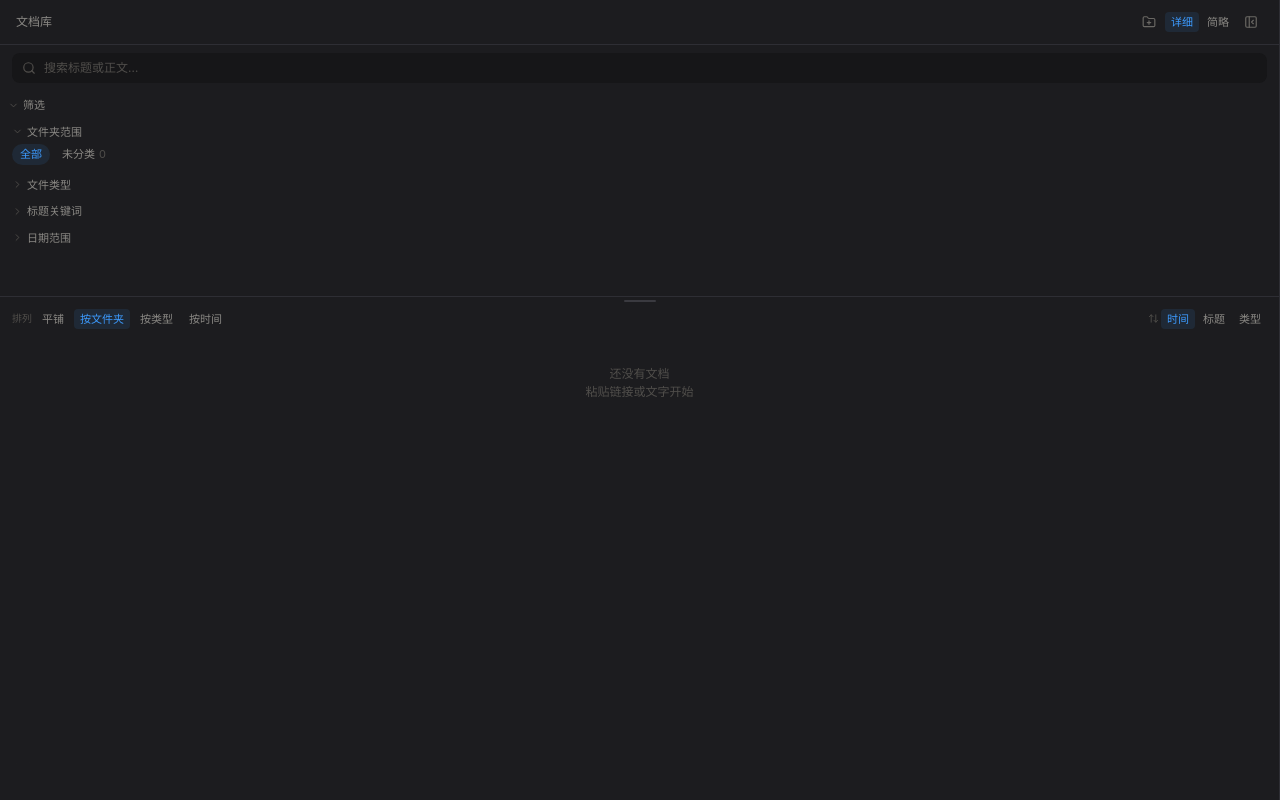
Scenario: DocLibrary — 文件夹操作失败 › 新建成功后输入框才收起
Click the button titled "新建文件夹" at point(1149, 22), box x1=1137 y1=10 x2=1161 y2=34
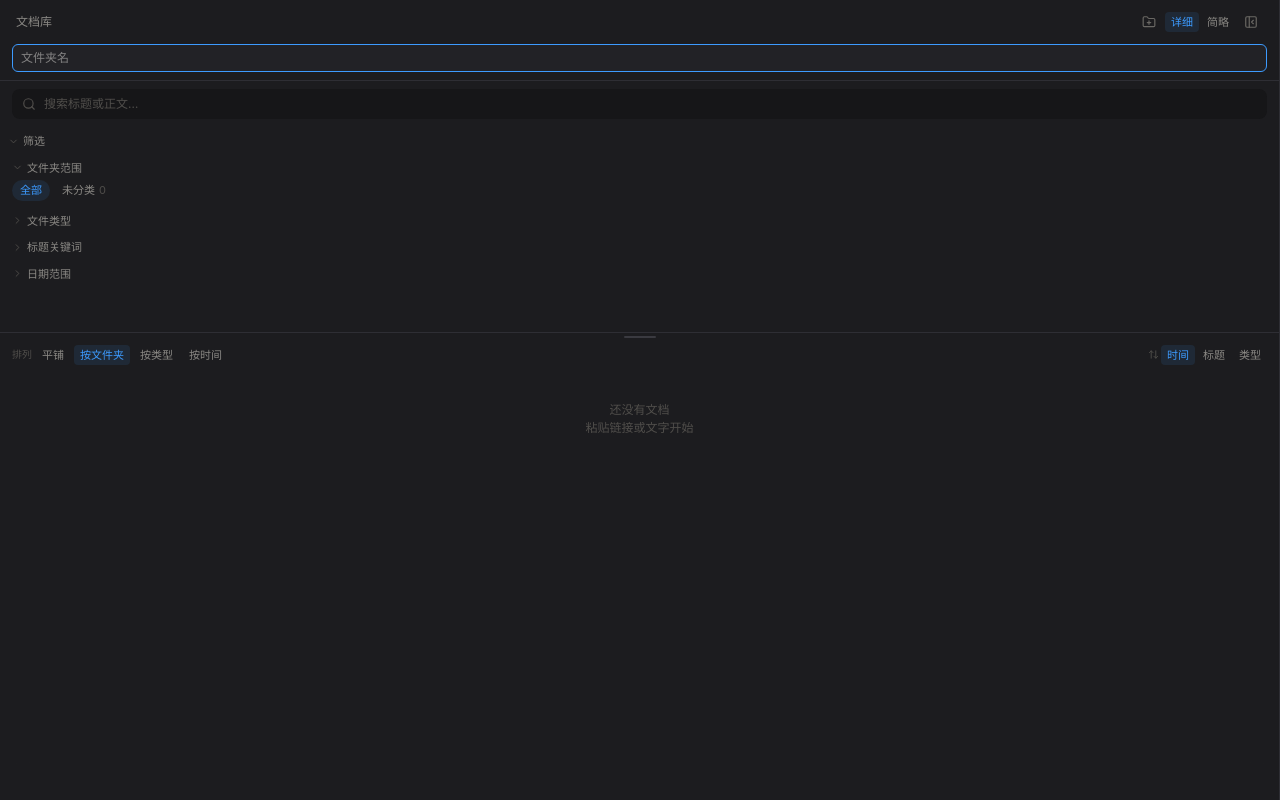
Type "已建成" into the field with placeholder "文件夹名" at point(640, 58), box x1=12 y1=44 x2=1267 y2=72
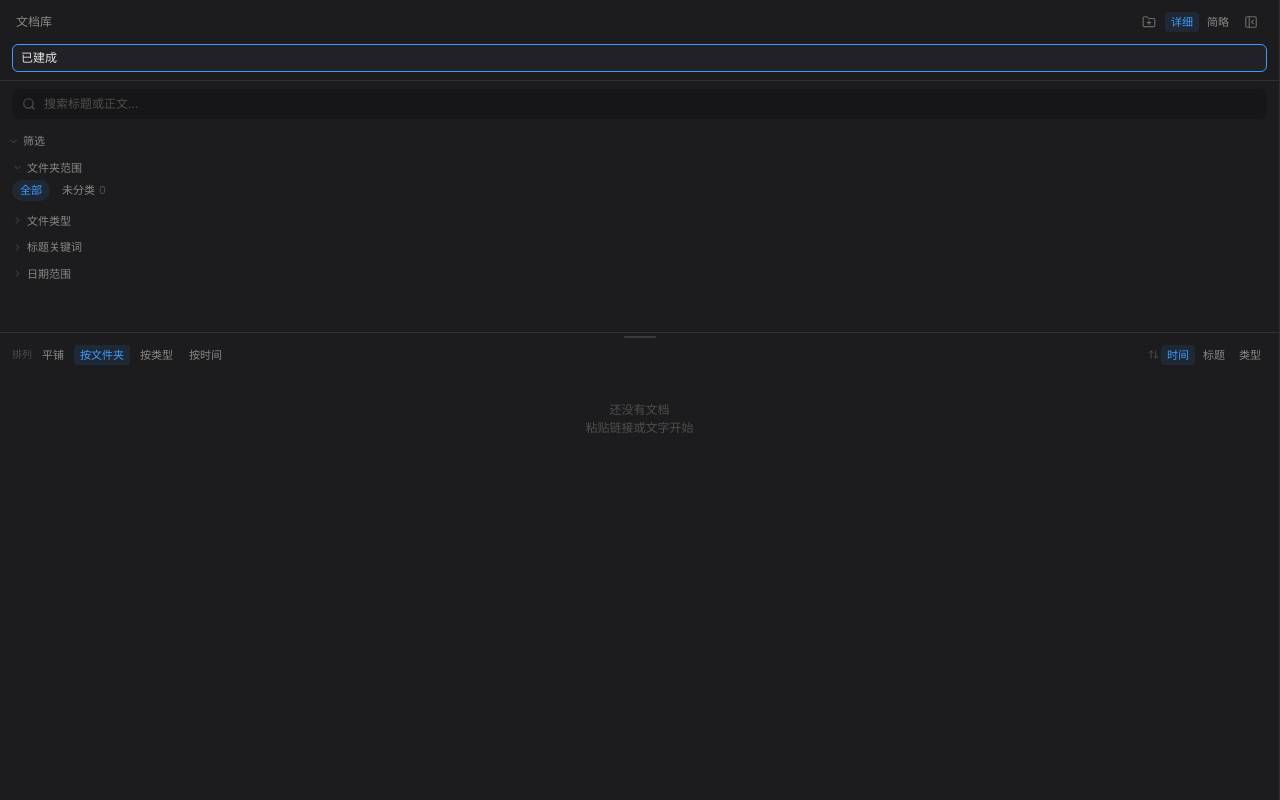
Press Enter in the field with placeholder "文件夹名", box x1=12 y1=44 x2=1267 y2=72
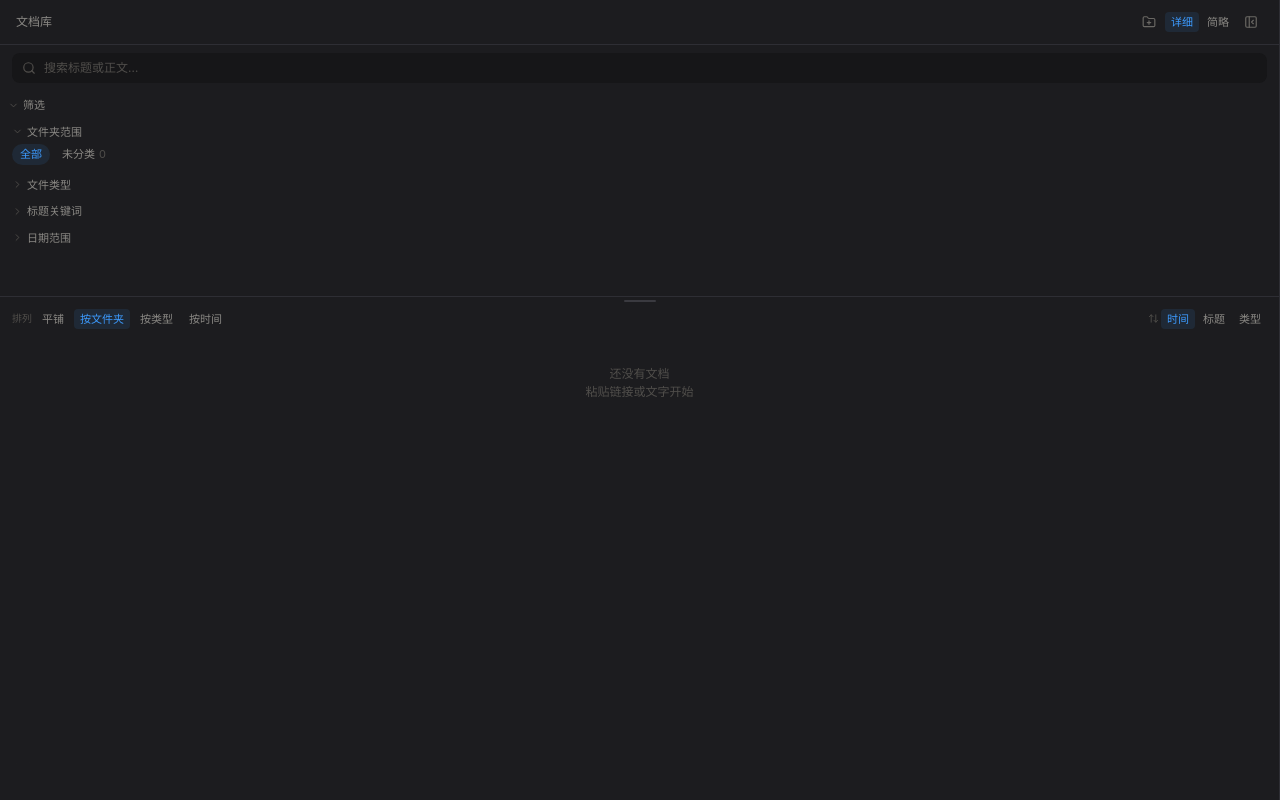
Expected: the field with placeholder "文件夹名" is gone
